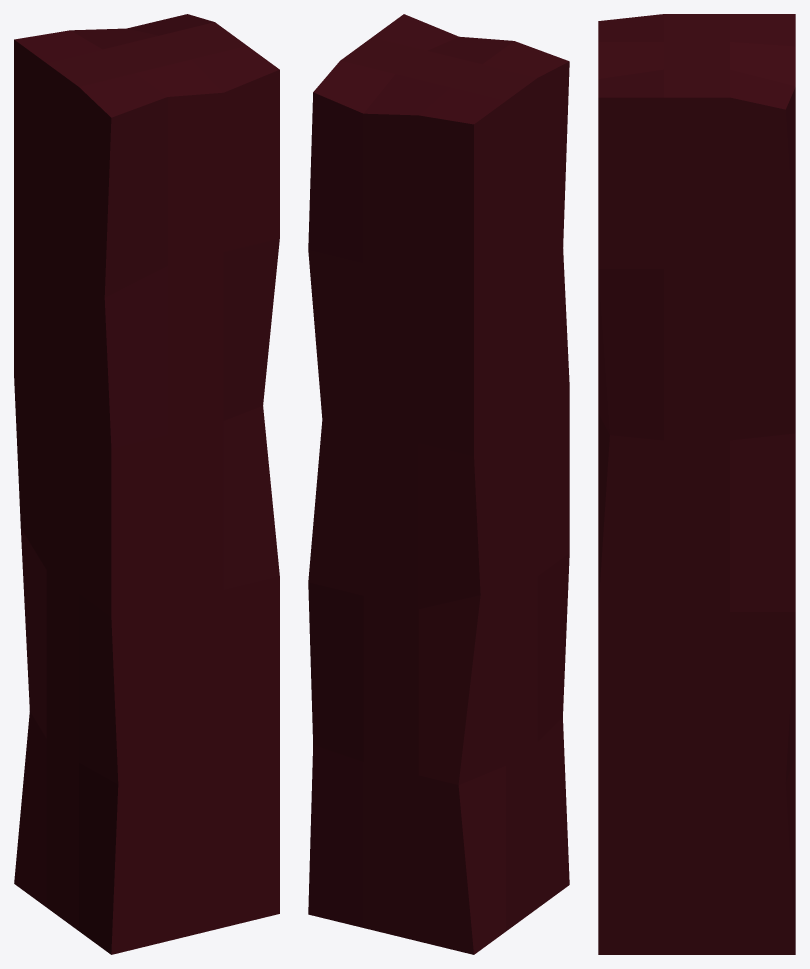
File: Madera1.fbx
3 views of the same model, side by side, from view 1: azimuth 30°, elevation 25°; view 2: azimuth 150°, elevation 25°; view 3: azimuth 270°, elevation 25° (orthographic). The views are drawn at different scales.
Visible parts, largest first — view 1: PilarMadera; view 2: PilarMadera; view 3: PilarMadera.
Boxes of the visible parts, left/top/right/bottom form: PilarMadera: left=14, top=14, right=279, bottom=954; PilarMadera: left=308, top=14, right=569, bottom=954; PilarMadera: left=598, top=14, right=795, bottom=954.
Bounding box in the file's own units: 73.67 × 353 × 73.67.
